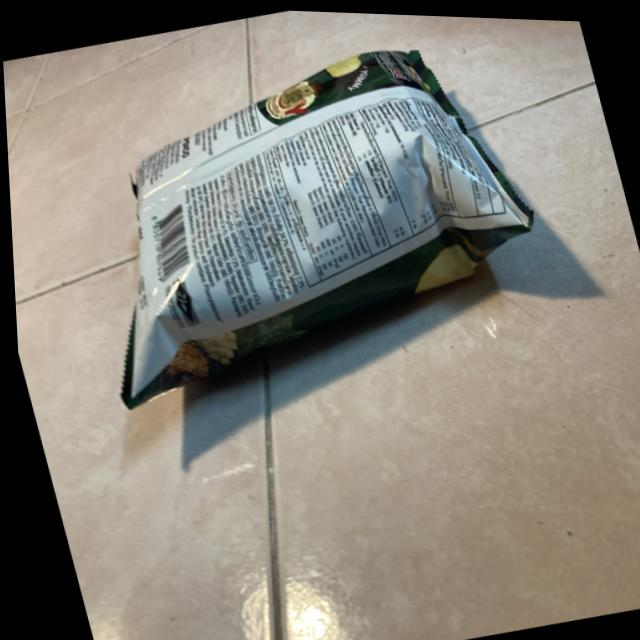Laygreen: (57, 39, 600, 457)
